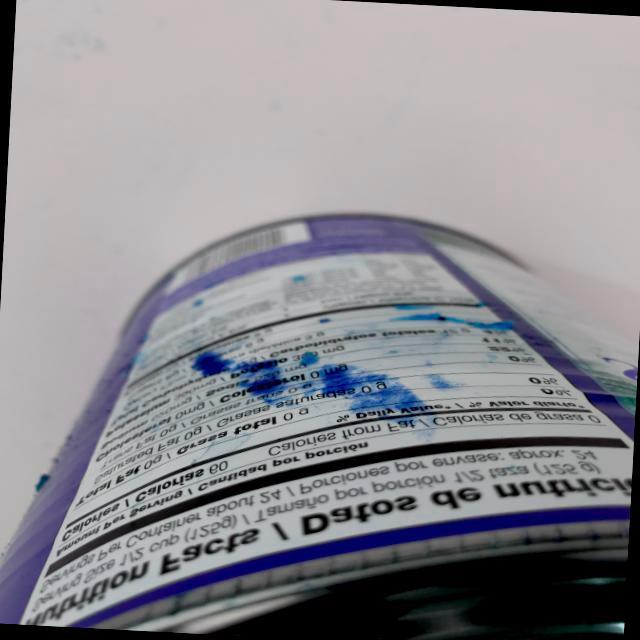metal: (0, 188, 640, 640)
